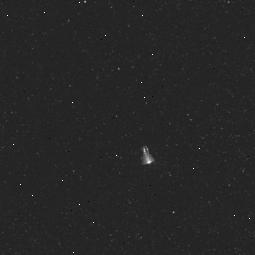debris: (138, 143, 156, 168)
